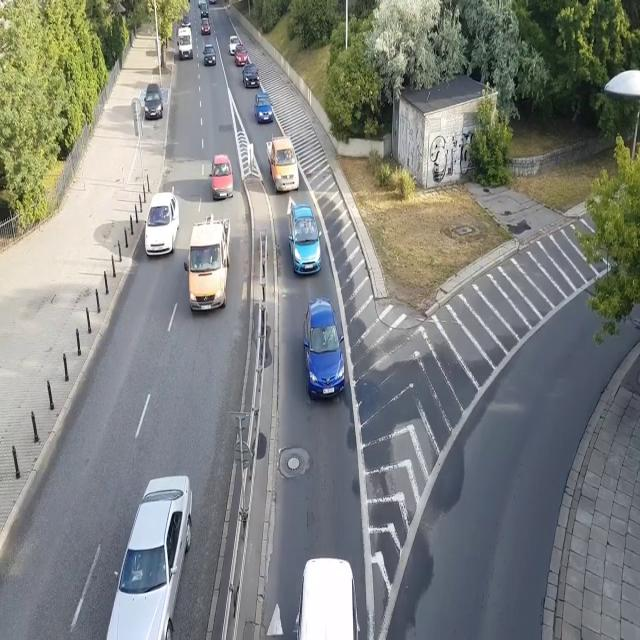car: (103, 474, 193, 640), (288, 203, 323, 280), (145, 193, 180, 258), (208, 153, 235, 199), (144, 82, 164, 121), (254, 90, 274, 124), (241, 63, 260, 89), (202, 42, 216, 66), (235, 43, 248, 65), (228, 35, 240, 55), (200, 18, 211, 34), (200, 2, 208, 18), (182, 16, 191, 28)
truck: (184, 215, 231, 314), (264, 138, 300, 195)
van: (294, 554, 361, 640), (177, 28, 193, 62)
